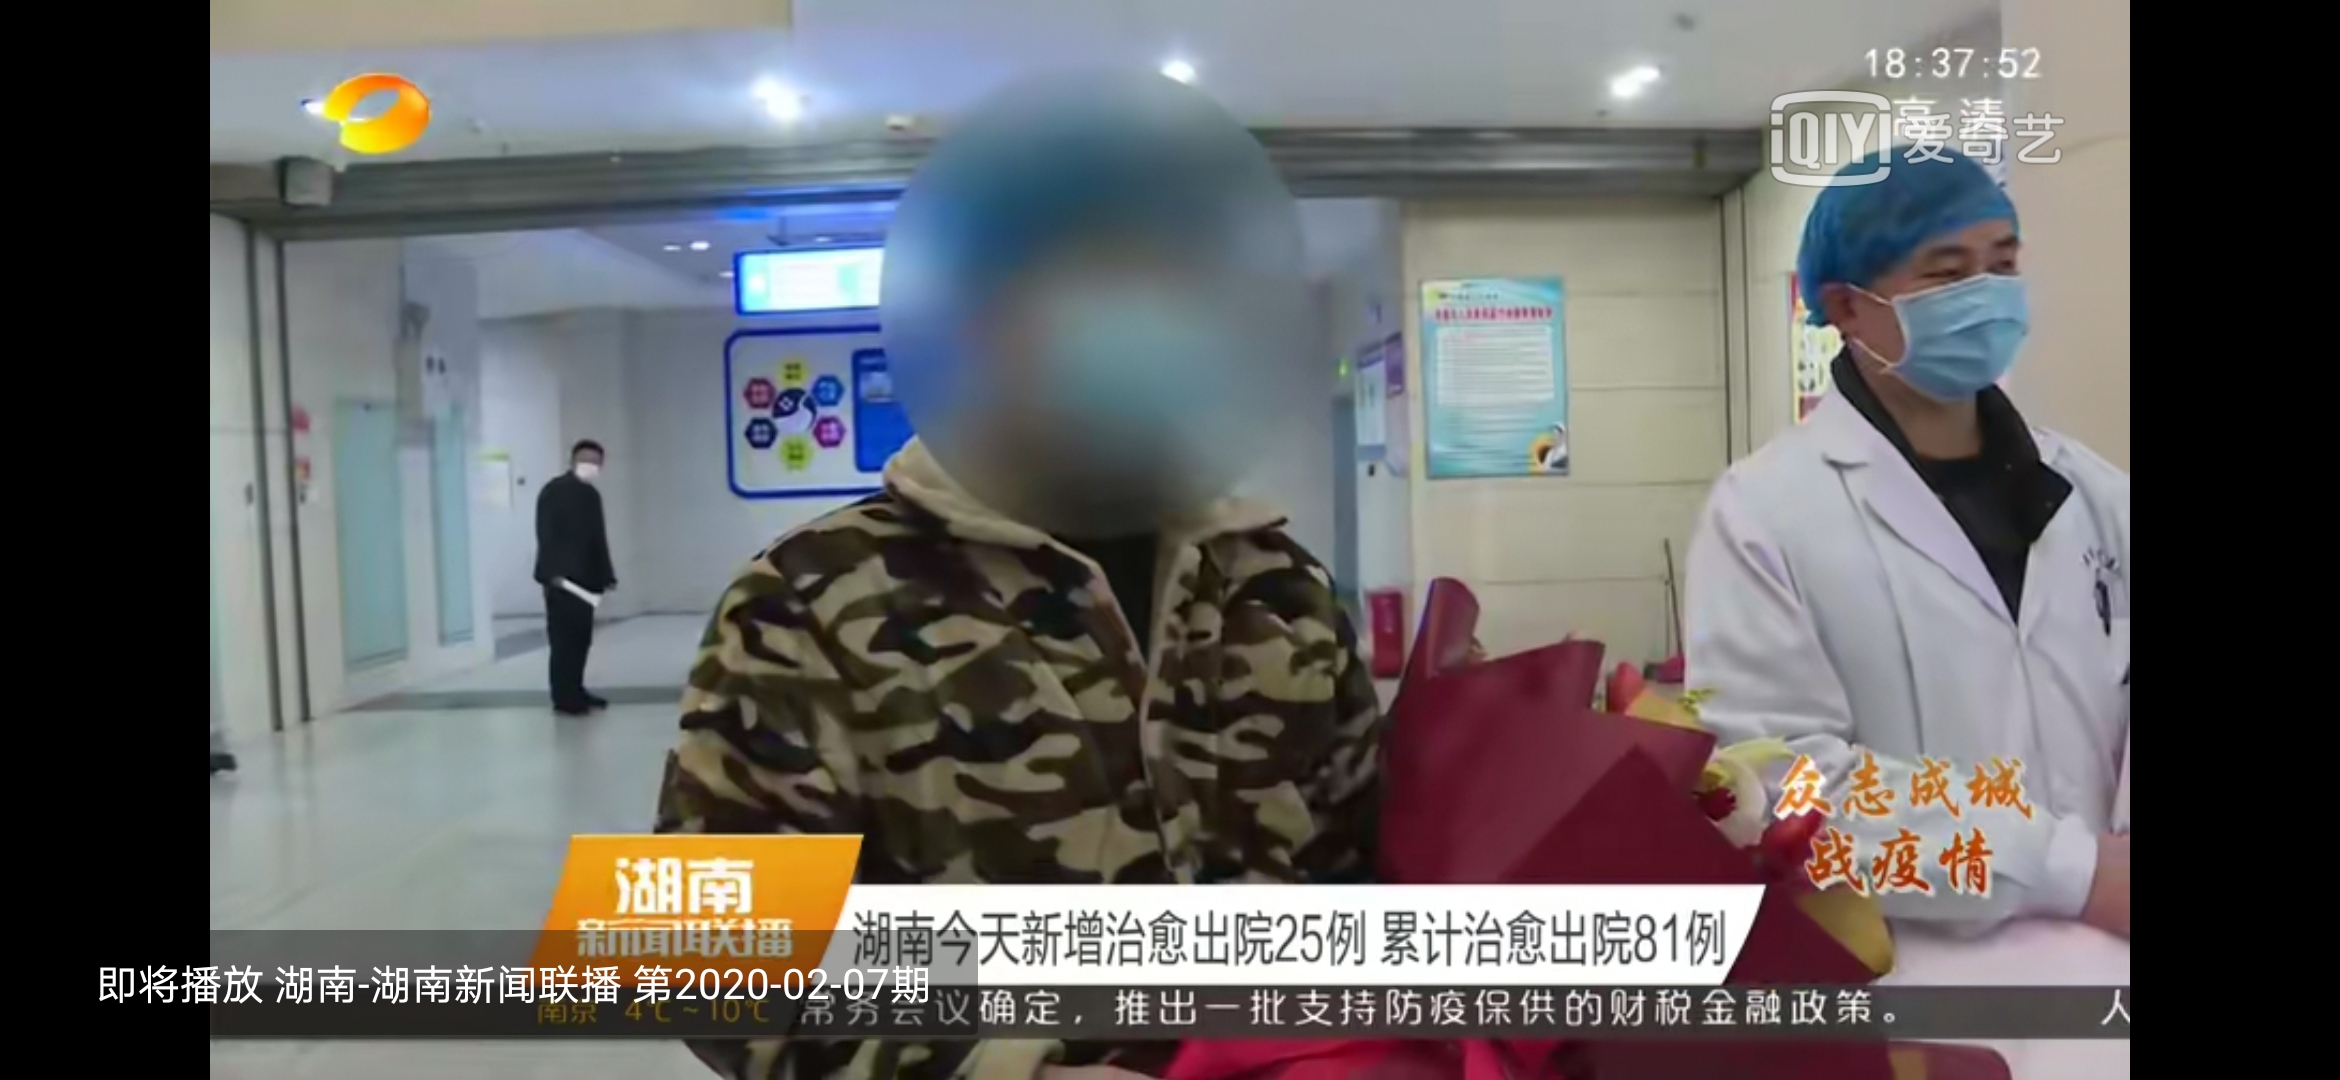correctlyWear: (1812, 227, 2034, 410), (570, 450, 601, 483)
